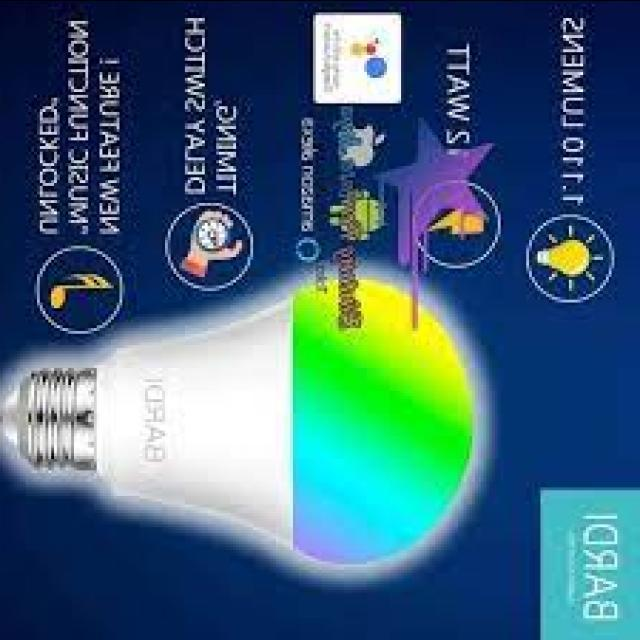light_bulb: (6, 267, 496, 577)
